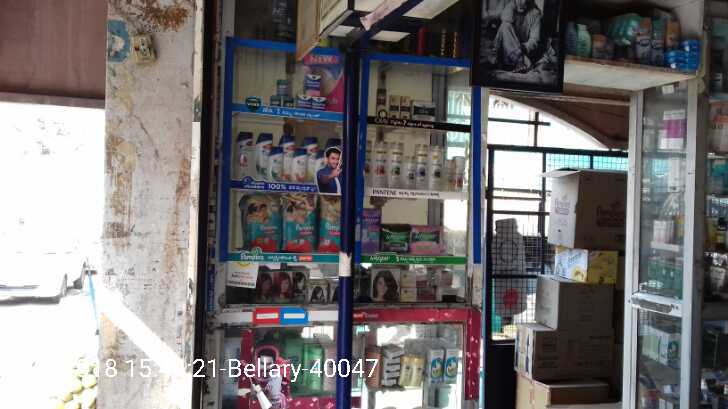vicks: (300, 74, 327, 106), (271, 80, 293, 106)
